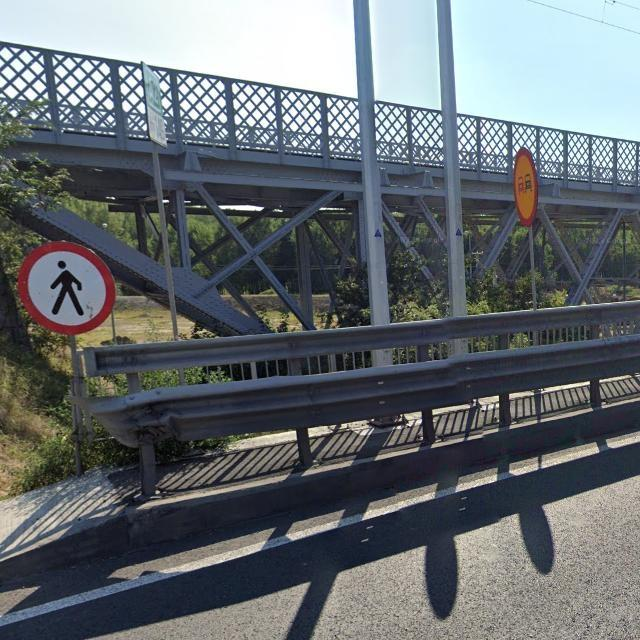forb_overtake: (513, 147, 538, 228)
